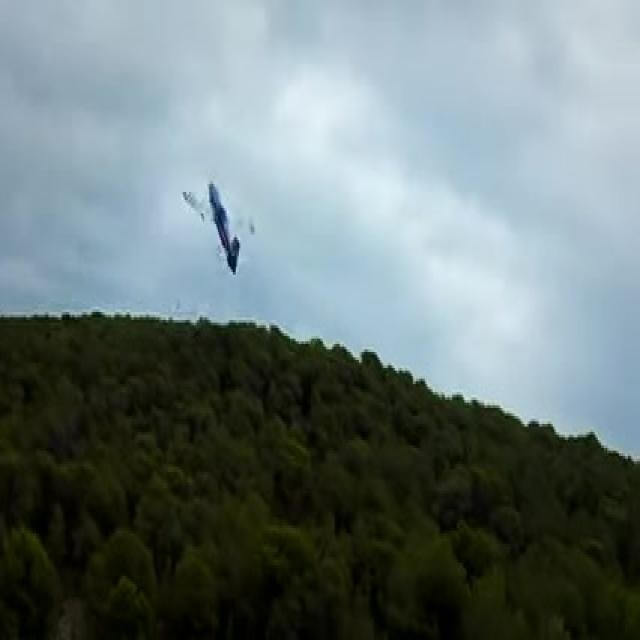iha: (211, 208, 225, 246)
